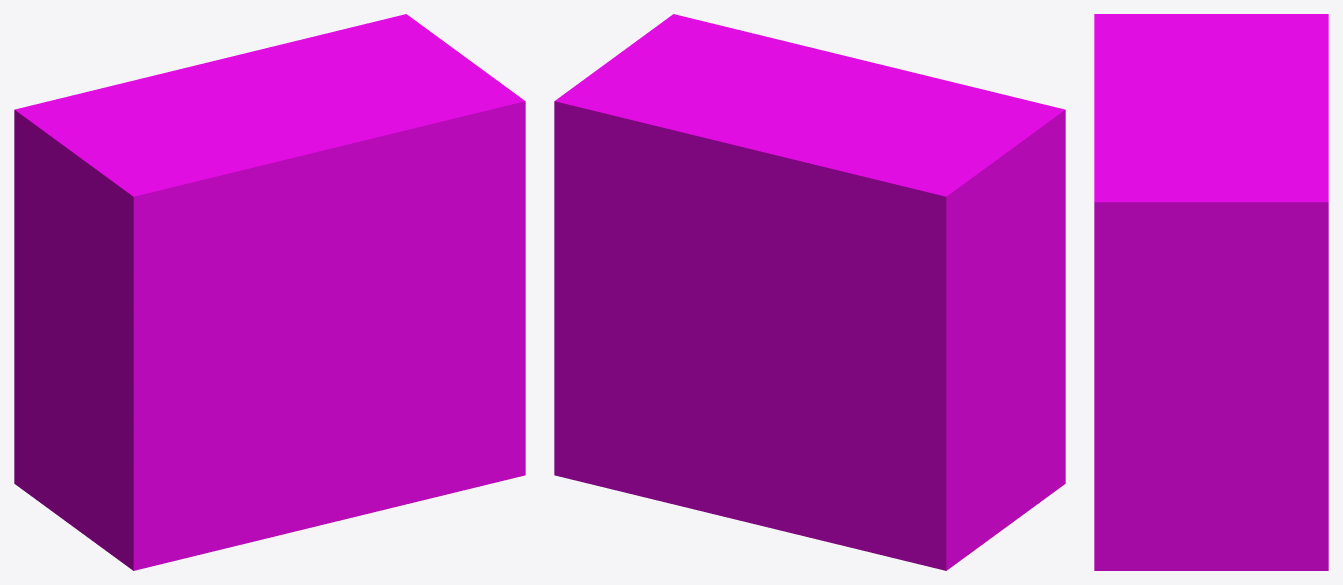
The model's file is conservatory-equipment-cart.collision.glb.
3 views of the same model, side by side, from view 1: azimuth 30°, elevation 25°; view 2: azimuth 150°, elevation 25°; view 3: azimuth 270°, elevation 25° (orthographic).
Parts seen in each view (by area): view 1: conservatory_equipment_cart_collision_collision; view 2: conservatory_equipment_cart_collision_collision; view 3: conservatory_equipment_cart_collision_collision.
Part boxes in pixels (x1,y1,x2,y2): conservatory_equipment_cart_collision_collision: (14, 14, 525, 570); conservatory_equipment_cart_collision_collision: (554, 14, 1065, 570); conservatory_equipment_cart_collision_collision: (1094, 14, 1328, 570).
Size of the model in its own units: 1.14 by 1.04 by 0.6.
